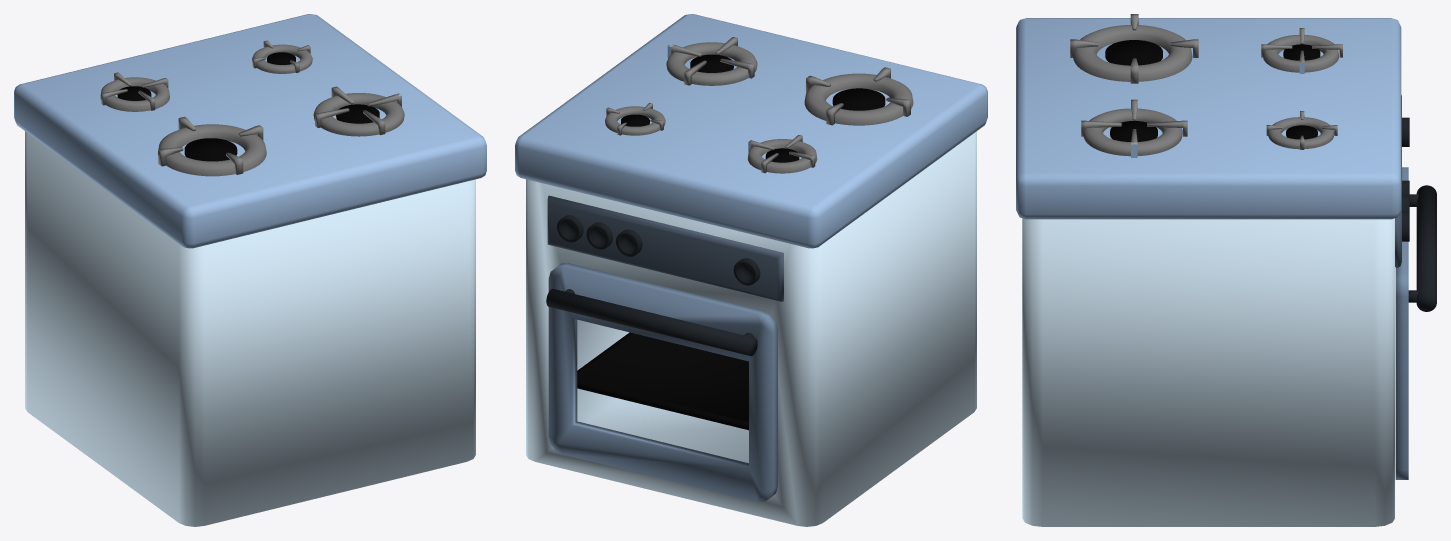
The model's file is ocak.fbx.
The picture shows the model from 3 angles, left to right: view 1: azimuth 30°, elevation 25°; view 2: azimuth 150°, elevation 25°; view 3: azimuth 270°, elevation 25°; orthographic projection. The views are drawn at different scales.
Visible parts, largest first — view 1: Cube; view 2: Cube; view 3: Cube.
Part boxes in pixels (<box>): Cube: <box>14,14,486,526</box>; Cube: <box>515,14,987,526</box>; Cube: <box>1016,14,1436,526</box>.
Bounding box in the file's own units: 207 × 218 × 226.
